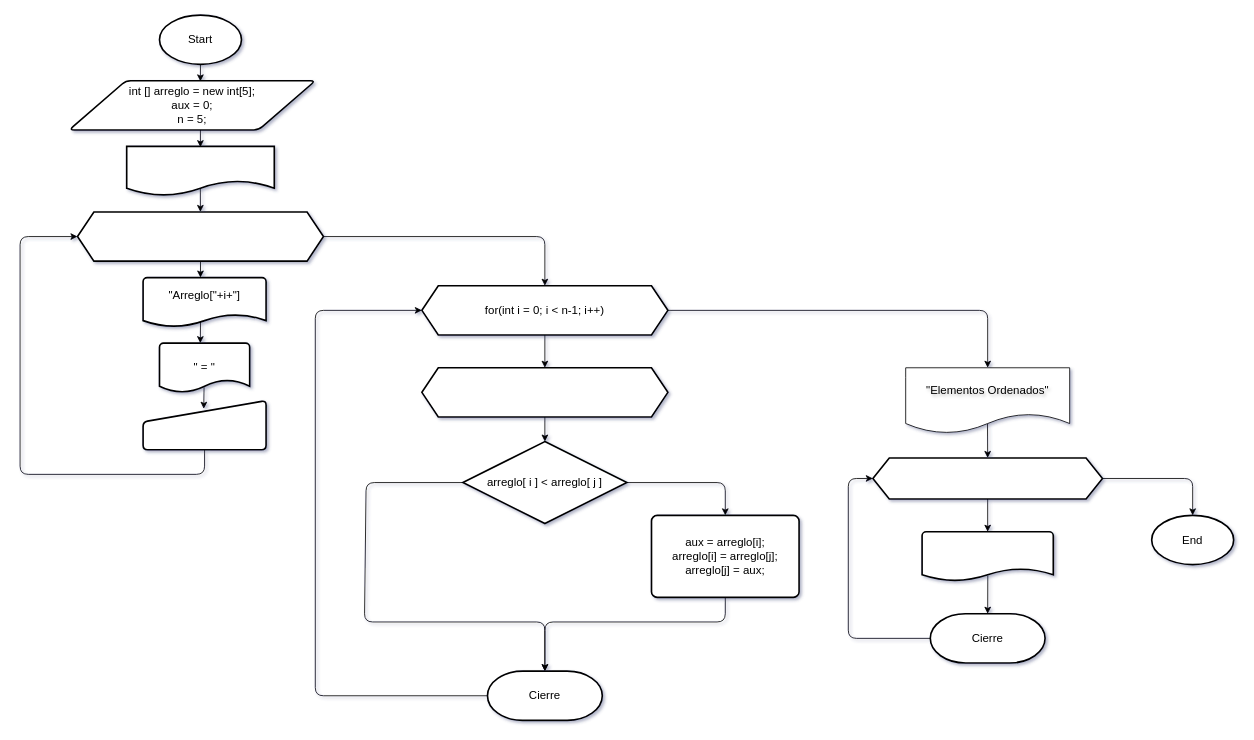
This 1254x740 diagram has some shape labels left out. Here are the shapes that lost their labels. From the top down, the centre of each, then its label:
the point at 200,170: "Ingrese elementos al arreglo"
the point at 200,236: for(int i = 0; i < n; i++)
the point at 544,392: for(int j = i+1; j < n; j++)
the point at 204,424: arreglo[i] = input.nextInt();
the point at 987,478: for(int k = 0; k < arreglo.length; k++)
the point at 987,556: "Arreglo["+k+"] = arreglo[k];
